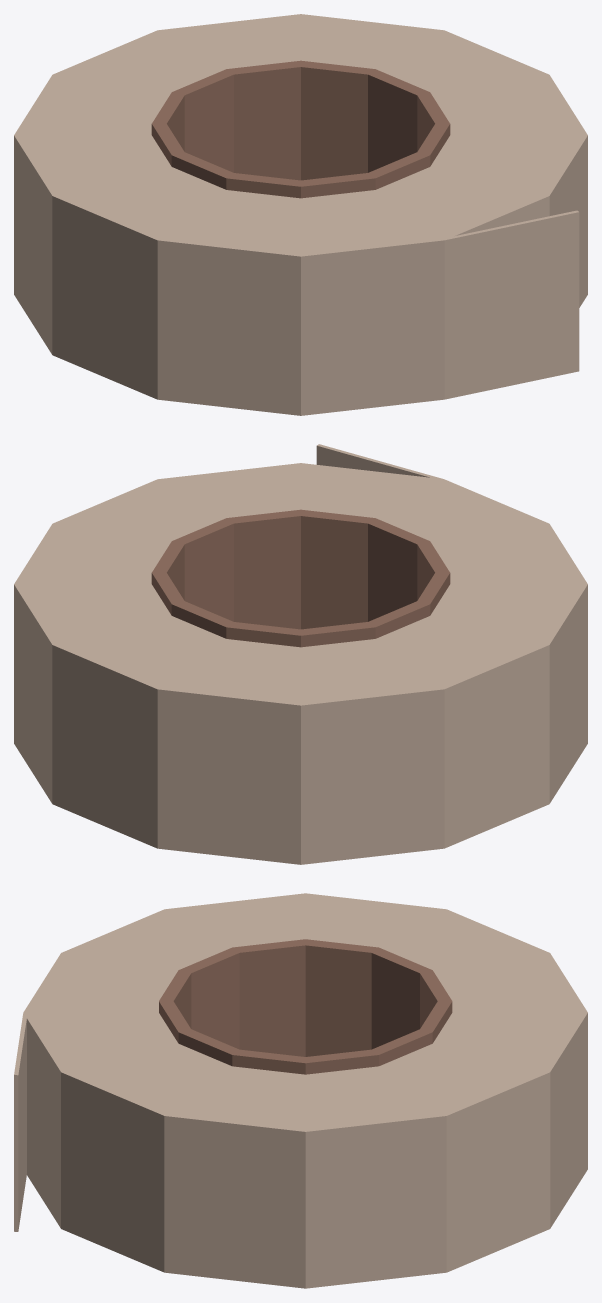
The model's file is Scotch.fbx.
3 renders of one model, top to bottom at view 1: azimuth 30°, elevation 25°; view 2: azimuth 150°, elevation 25°; view 3: azimuth 270°, elevation 25°, orthographic.
Parts seen in each view (by area): view 1: Scotch; view 2: Scotch; view 3: Scotch.
Boxes of the visible parts, left/top/right/bottom form: Scotch: left=14, top=14, right=587, bottom=415; Scotch: left=14, top=444, right=587, bottom=864; Scotch: left=14, top=893, right=587, bottom=1288.
Size of the model in its own units: 7 by 2.46 by 7.12.
